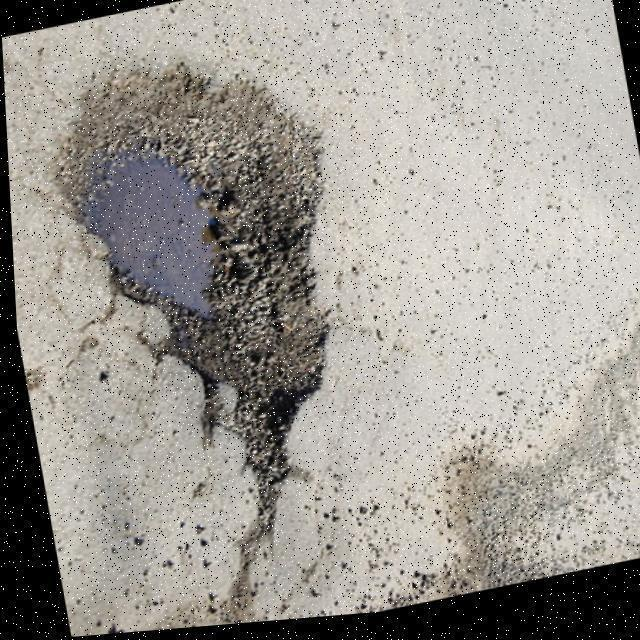Pothole: (59, 65, 329, 556)
